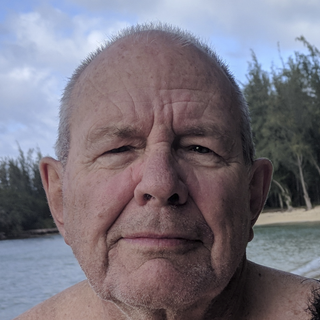eye: (174, 140, 222, 162), (93, 141, 141, 162)
